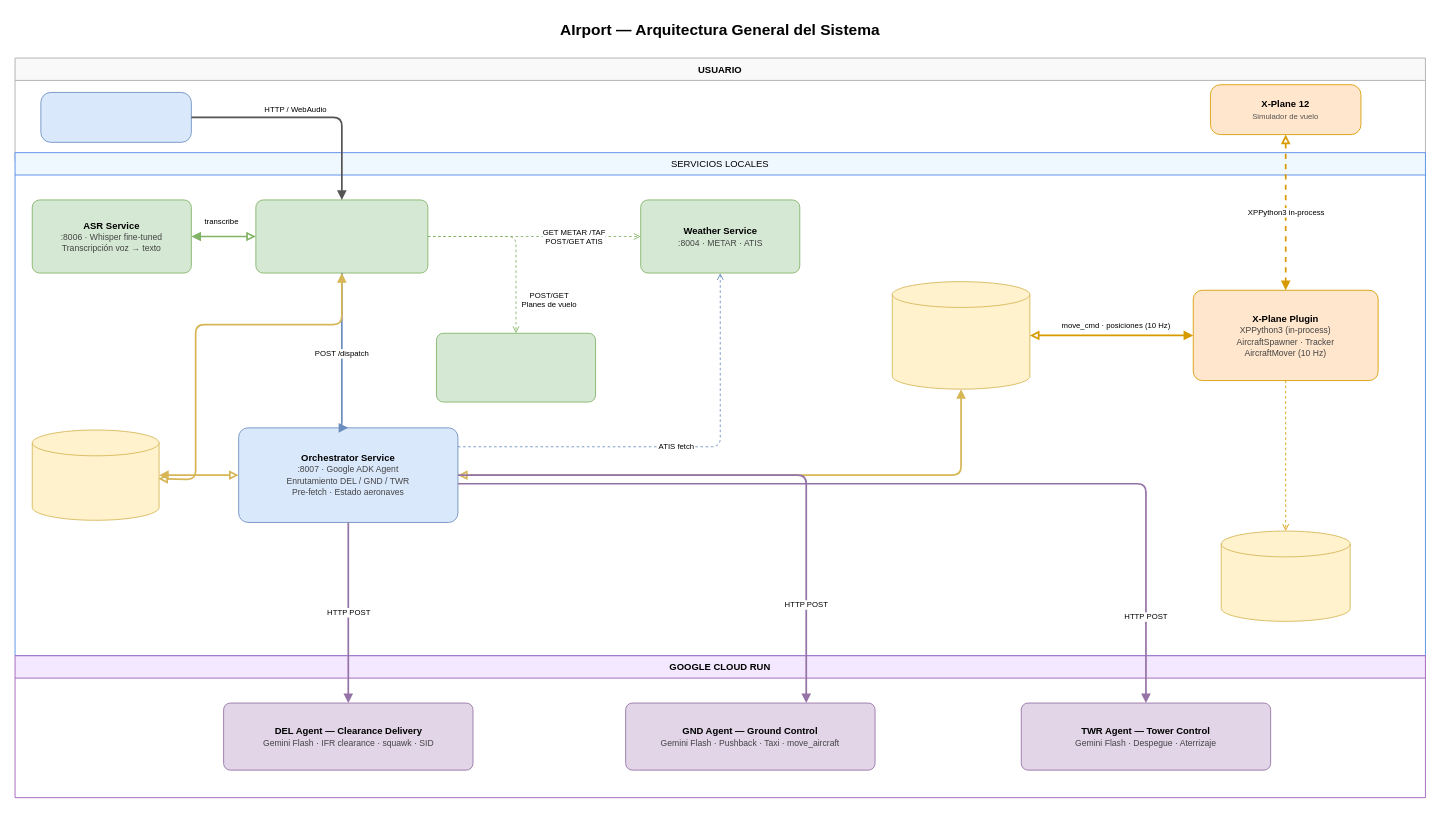
Some shapes in this 1441 by 813 pixel diagram are drawn without their labels. The shapes that lost their labels are listed below. From the top down, each one's centre as x and y in pixels, then its label:
At point 115,117: "Controlador ATC Navegador web · Micrófono".
At point 341,236: "Controller HMI Service :8005 · UI Web + API REST Flight strips · Radar suelo".
At point 960,335: "Redis :6379 Posición aviones (x, y, cabezeo, alabeo y guiñada)".
At point 516,367: "Flight Plan Service :8003 · Planes IFR".
At point 95,474: "PostgreSQL :5432 Datos del vuelo".
At point 1285,575: "InfluxDB :8087 · Series temporales".
